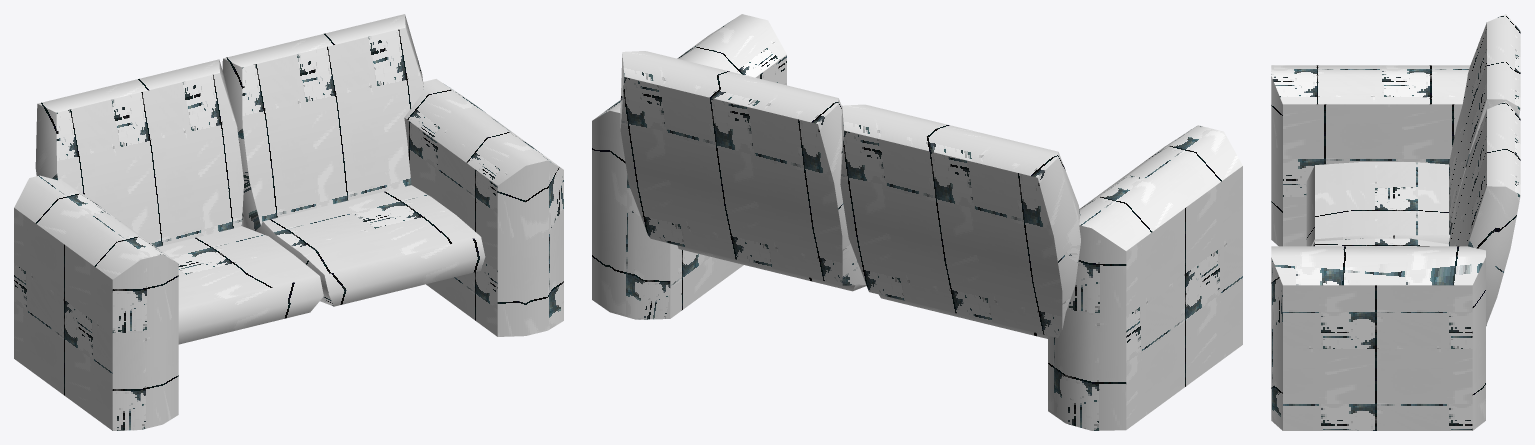
The model's file is LargeSofa.FBX.
3 renders of one model, left to right at view 1: azimuth 30°, elevation 25°; view 2: azimuth 150°, elevation 25°; view 3: azimuth 270°, elevation 25°, orthographic. The views are drawn at different scales.
Visible parts, largest first — view 1: LargeSofa; view 2: LargeSofa; view 3: LargeSofa.
Boxes of the visible parts, x1,y1,x2,y2 form: LargeSofa: (14,14,563,430); LargeSofa: (592,14,1242,430); LargeSofa: (1271,14,1520,430).
Bounding box in the file's own units: 4.79 × 2.38 × 2.37.
Materials: 1 (1 with a texture image).
